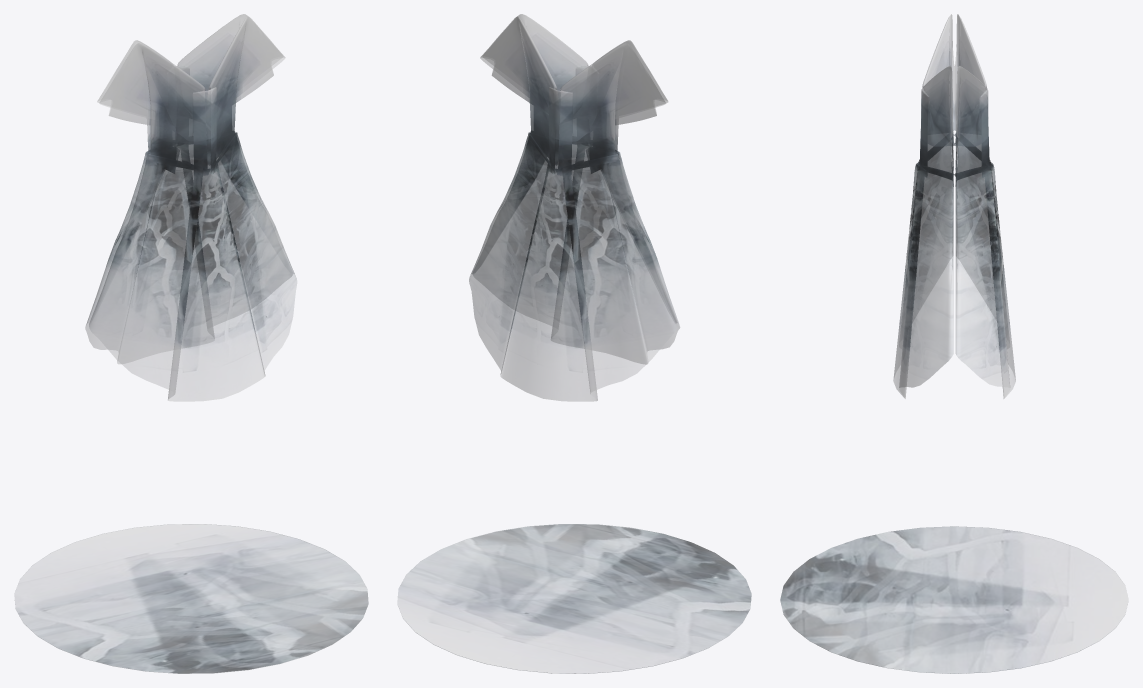
File: dress.glb
3 renders of one model, left to right at view 1: azimuth 30°, elevation 25°; view 2: azimuth 150°, elevation 25°; view 3: azimuth 270°, elevation 25°, orthographic.
Parts seen in each view (by area): view 1: dress, ground; view 2: dress, ground; view 3: ground, dress.
Boxes of the visible parts, box(x1,y1,x2,y2) form: dress: box(85, 14, 296, 401); ground: box(14, 524, 368, 673); dress: box(469, 14, 679, 401); ground: box(397, 524, 751, 673); ground: box(780, 526, 1128, 673); dress: box(893, 14, 1015, 398).
Size of the model in its own units: 4.4 by 7.8 by 4.4.
Materials: 1 (1 with a texture image).
